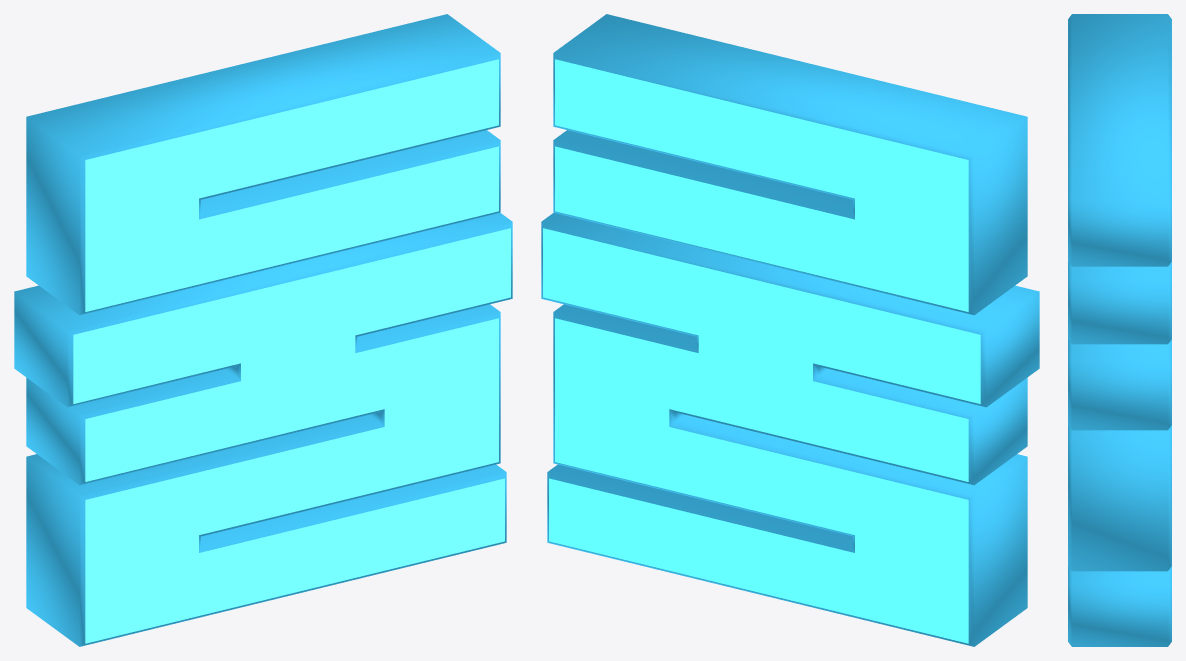
3 views of the same model, side by side, from view 1: azimuth 30°, elevation 25°; view 2: azimuth 150°, elevation 25°; view 3: azimuth 270°, elevation 25° (orthographic). The views are drawn at different scales.
Visible parts, largest first — view 1: glyph; view 2: glyph; view 3: glyph.
Part boxes in pixels (x1,y1,x2,y2): glyph: (14,14,512,646); glyph: (541,14,1039,646); glyph: (1068,14,1171,646).
Size of the model in its own units: 0.0726 by 0.0766 by 0.0162.
